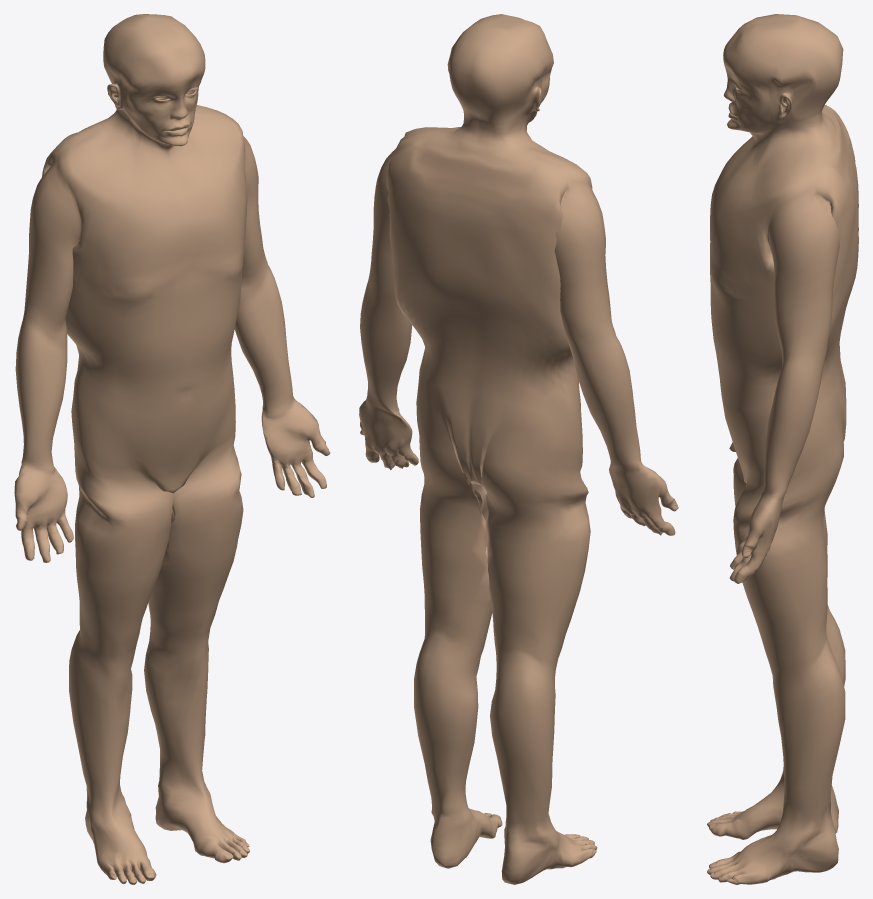
The model's file is skin-candidate-f3c29.glb.
The picture shows the model from 3 angles, left to right: view 1: azimuth 30°, elevation 25°; view 2: azimuth 150°, elevation 25°; view 3: azimuth 270°, elevation 25°; orthographic projection.
Parts seen in each view (by area): view 1: MakeHuman_AT10_skin_fit_candidate_f3c29; view 2: MakeHuman_AT10_skin_fit_candidate_f3c29; view 3: MakeHuman_AT10_skin_fit_candidate_f3c29.
Boxes of the visible parts, bbox=[...] form: MakeHuman_AT10_skin_fit_candidate_f3c29: bbox=[14, 14, 330, 884]; MakeHuman_AT10_skin_fit_candidate_f3c29: bbox=[359, 14, 678, 884]; MakeHuman_AT10_skin_fit_candidate_f3c29: bbox=[707, 14, 858, 884].
Bounding box in the file's own units: 0.6758 × 1.71 × 0.2826.
